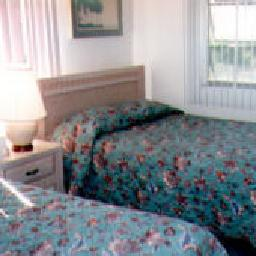Cama: (73, 106, 249, 209), (8, 183, 212, 249)
Ventana: (203, 2, 251, 90)
